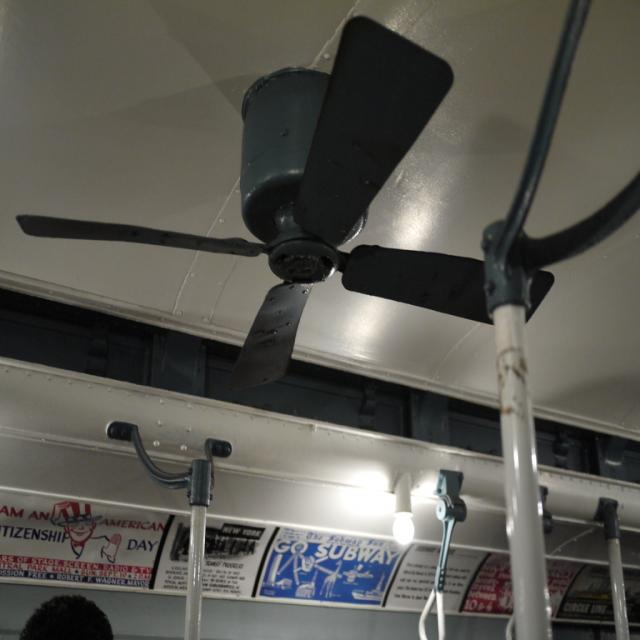Bulb: (16, 16, 554, 392)
